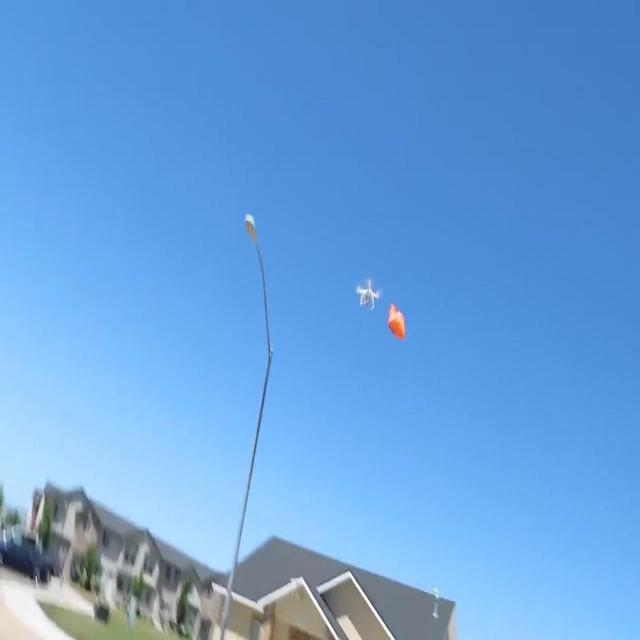UAV: (356, 278, 381, 310)
